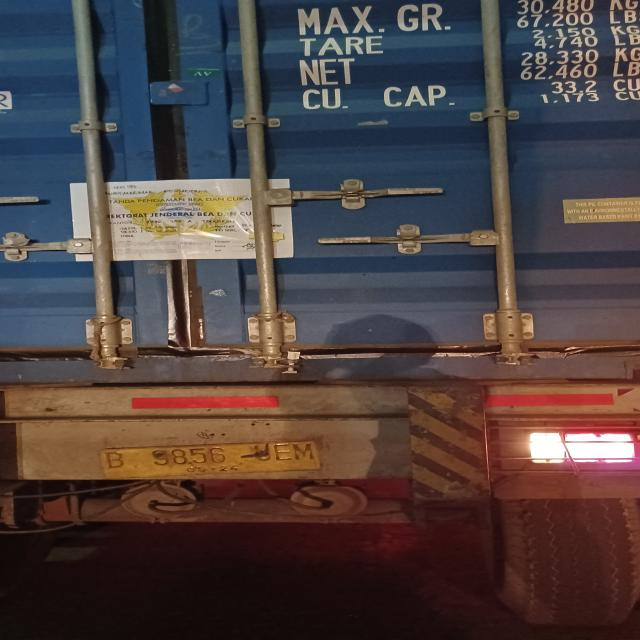seal: (282, 350, 301, 374)
